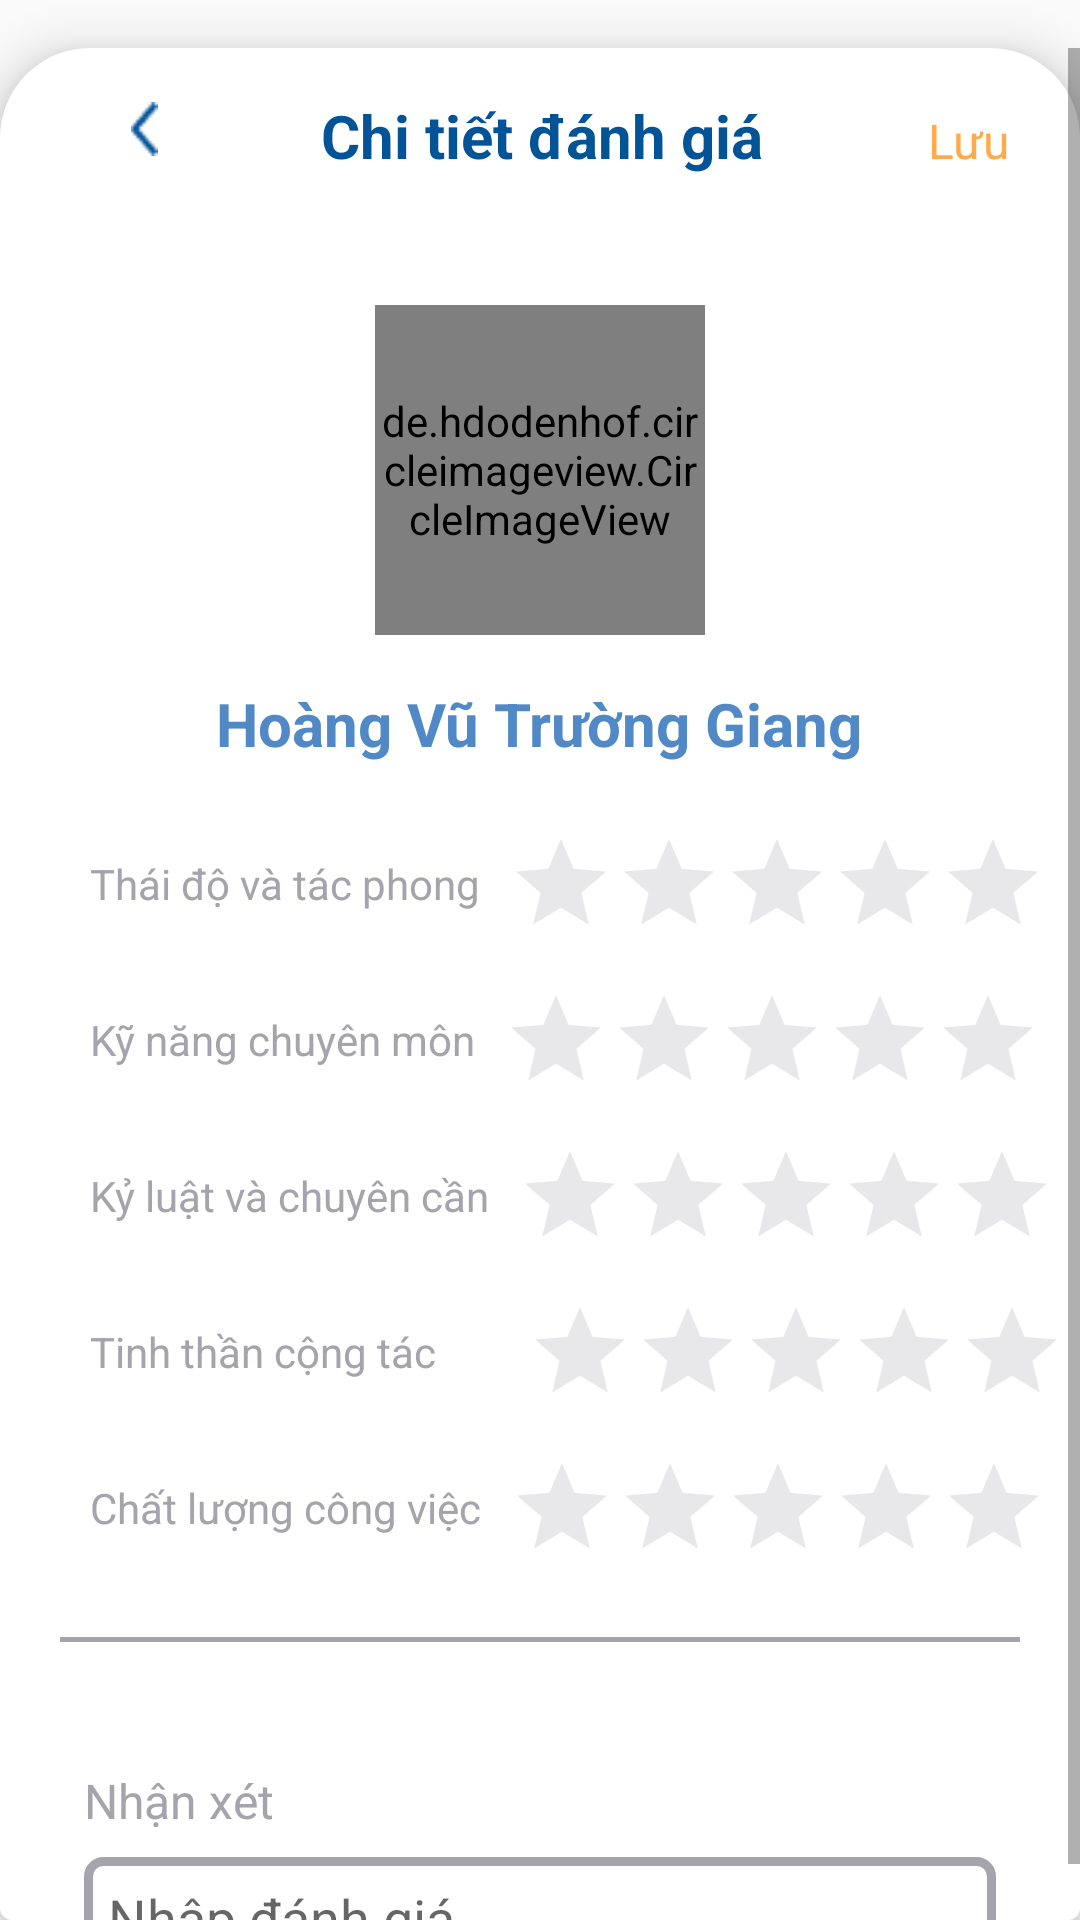

Screen size 1080x1920. Icon name, then its center in pixels as point (x, y):
back third: point (144, 129)
